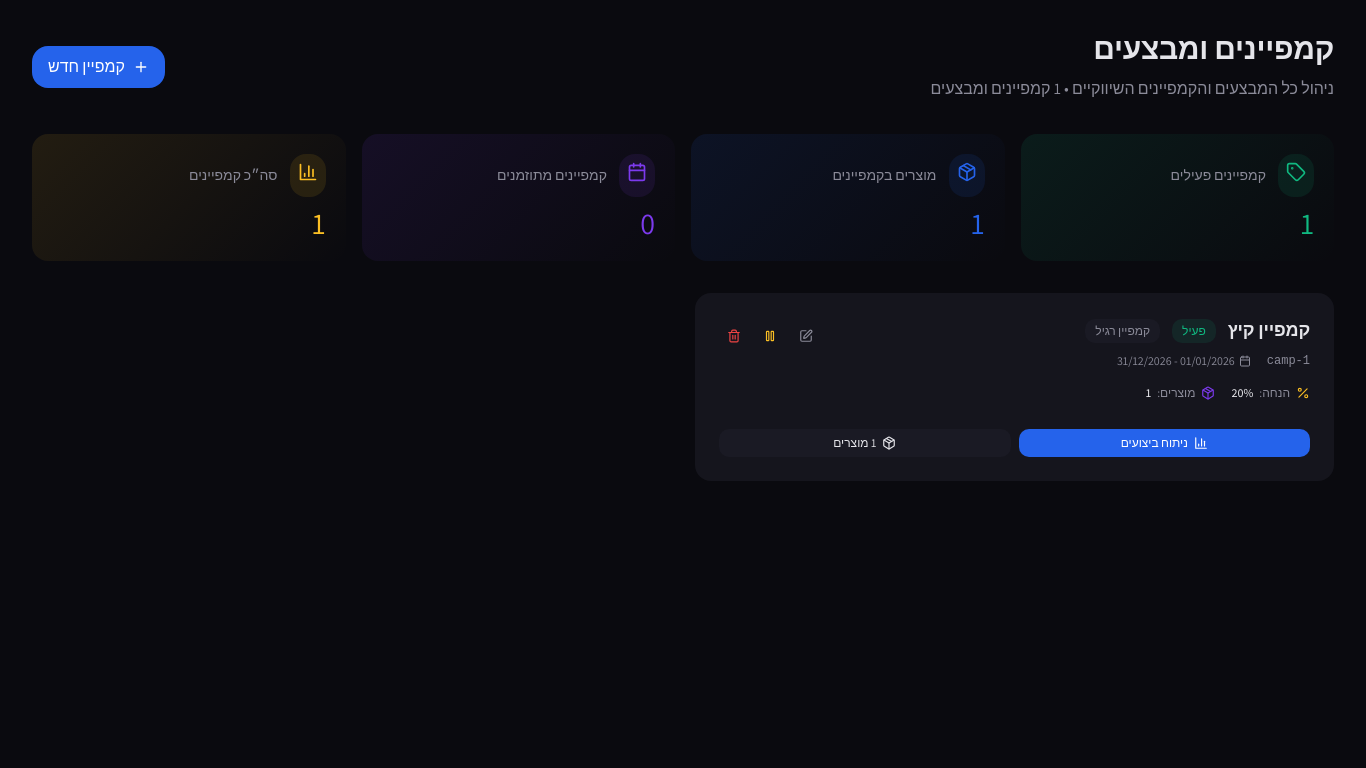
AdminCampaignsPage — Analytics modal (real, server-derived) › the fake "Add Budget" success flow no longer exists
Expected: the heading "קמפיין קיץ" is shown, [1228,317,1310,345]
Click the button "ניתוח ביצועים".
click(1164, 443)  # box [1018,429,1310,457]
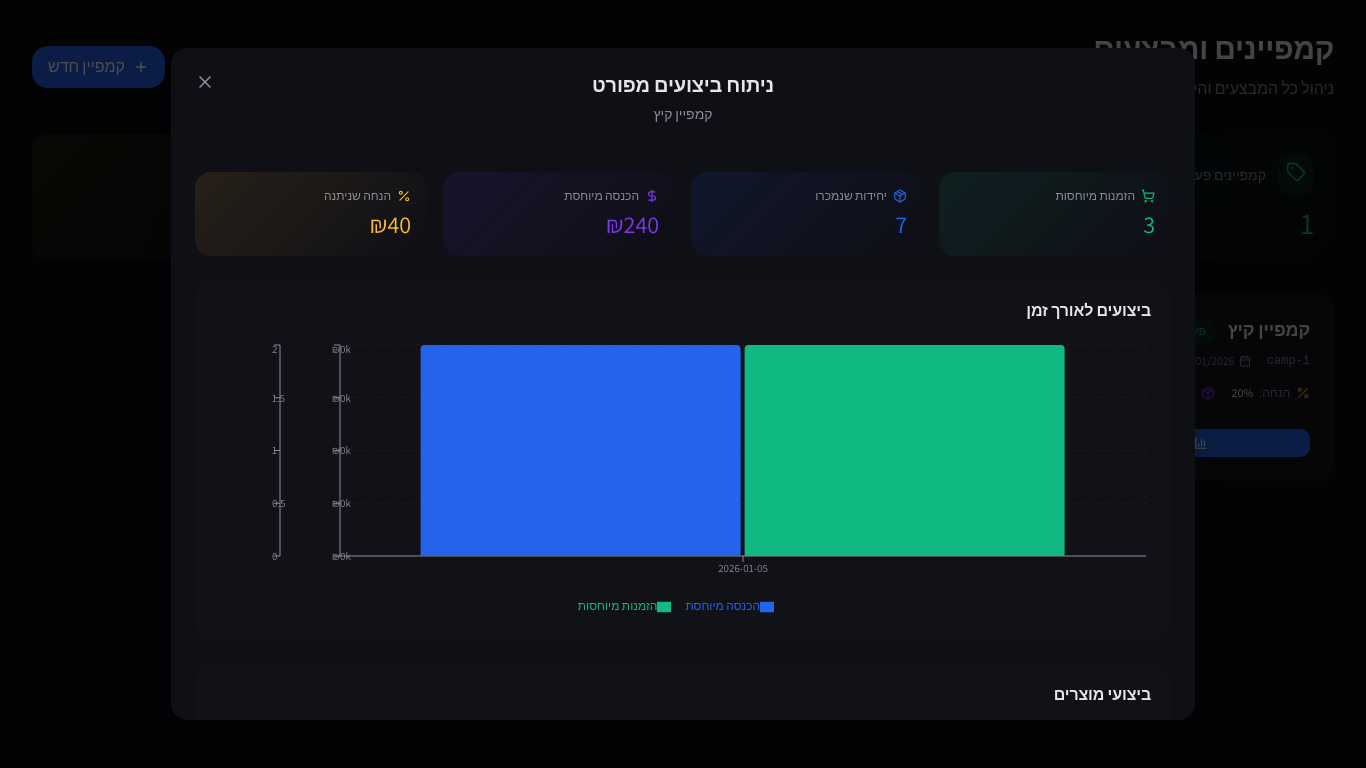
Expected: the text "הזמנות מיוחסות" in the row of "יחידות שנמכרו" is shown, [1055,188,1135,203]
